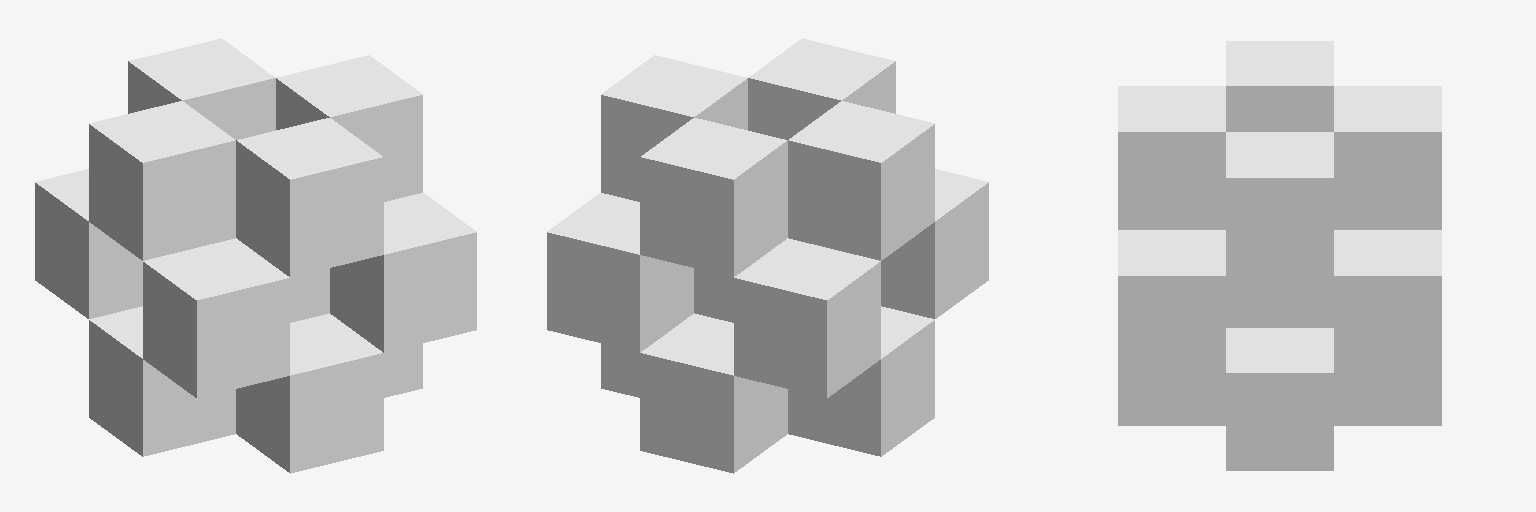
The model's file is rose.obj.
The picture shows the model from 3 angles: view 1: azimuth 30°, elevation 25°; view 2: azimuth 150°, elevation 25°; view 3: azimuth 270°, elevation 25°; orthographic projection.
Parts seen in each view (by area): view 1: rose; view 2: rose; view 3: rose.
Boxes of the visible parts, <box> form: rose: <box>35,38,476,473</box>; rose: <box>547,38,988,473</box>; rose: <box>1118,41,1441,470</box>.
Bounding box in the file's own units: 3 × 3 × 3.